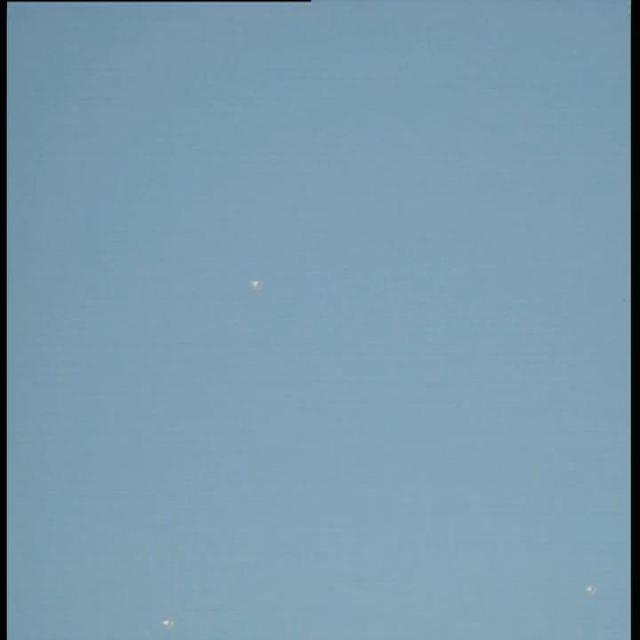drone: (153, 612, 179, 630), (247, 271, 267, 293), (582, 579, 598, 598)
